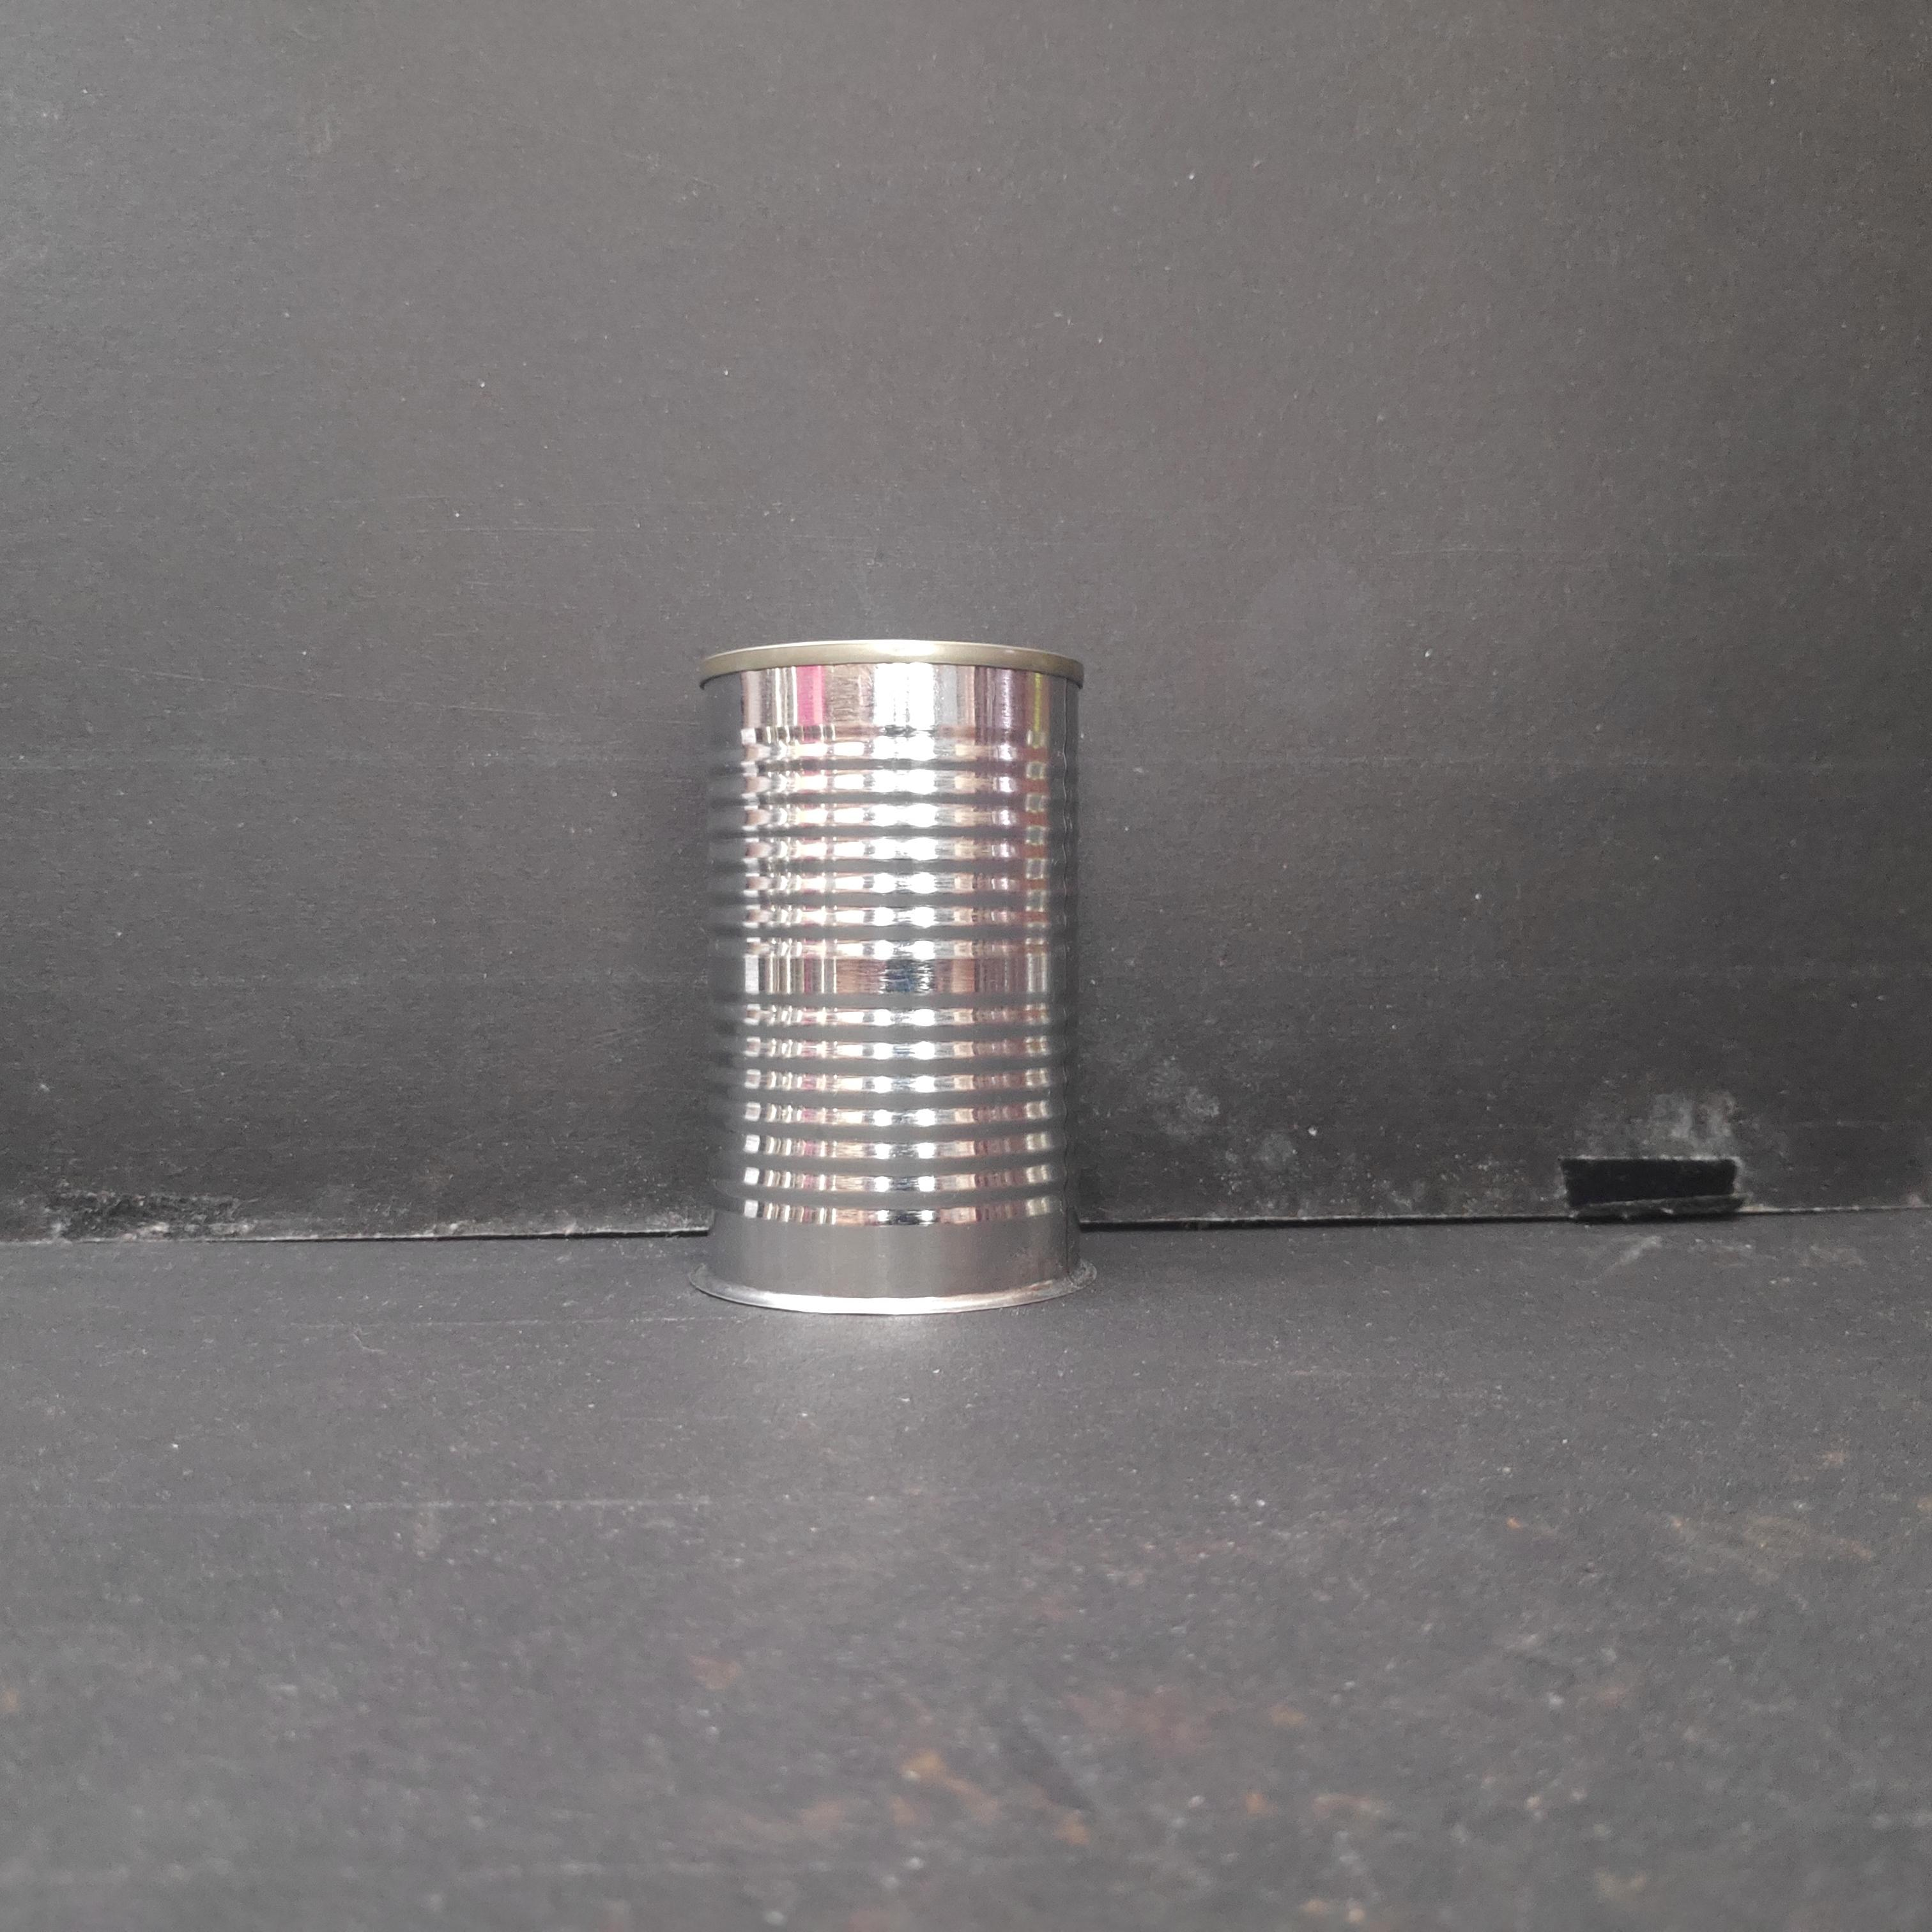No defect: (682, 630, 1114, 1326)
